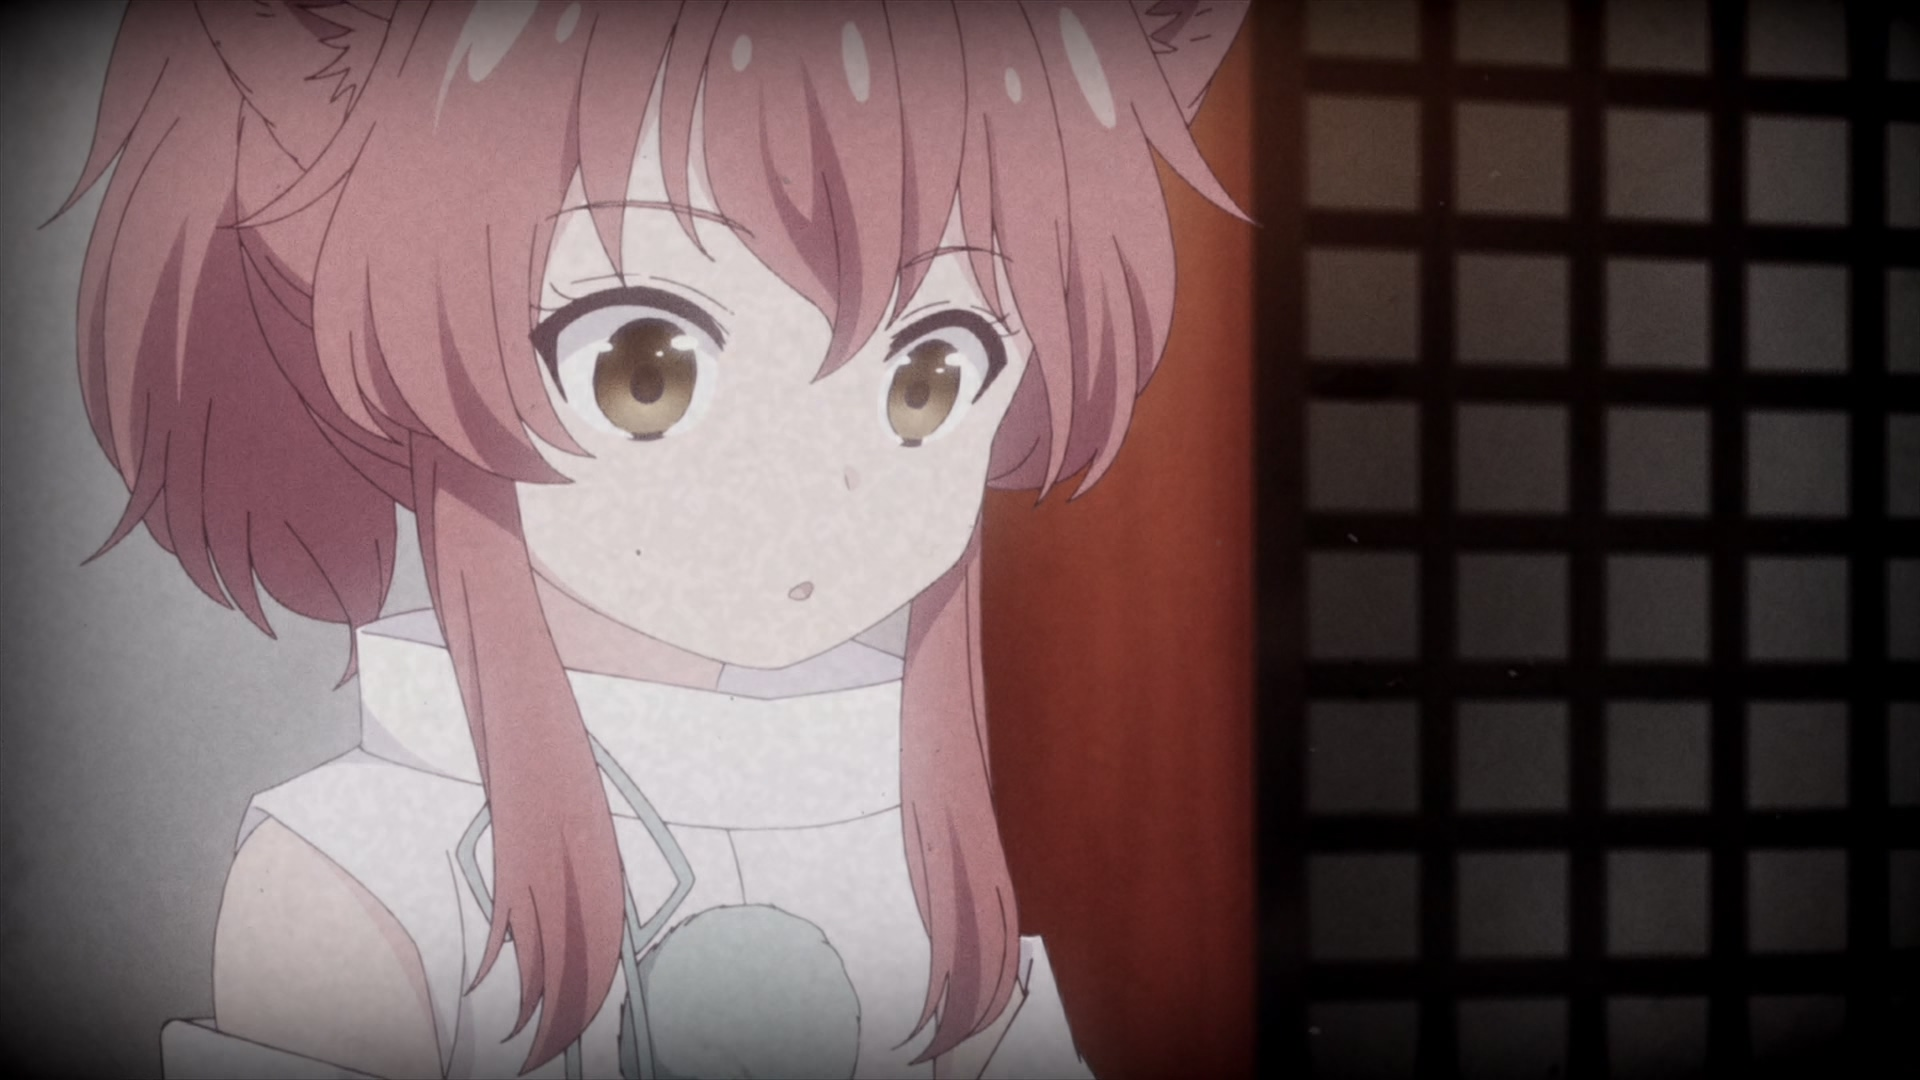椿: (40, 1, 1269, 1080)
